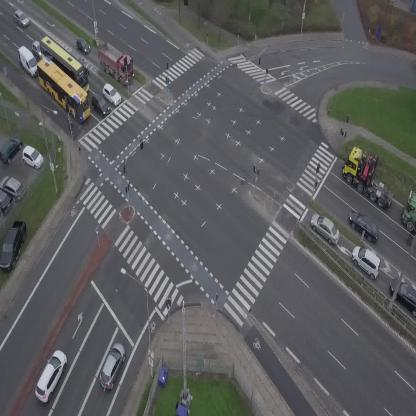bus: (29, 53, 100, 123), (33, 34, 99, 93)
car: (30, 347, 71, 404), (96, 341, 130, 392), (343, 207, 386, 245), (345, 242, 386, 280), (306, 209, 345, 246), (98, 81, 124, 107), (87, 92, 112, 119), (71, 35, 93, 57), (10, 8, 31, 30), (71, 50, 87, 65), (31, 40, 39, 58)
lorry: (334, 142, 409, 211), (88, 37, 143, 88), (12, 44, 43, 80), (402, 193, 416, 232)
